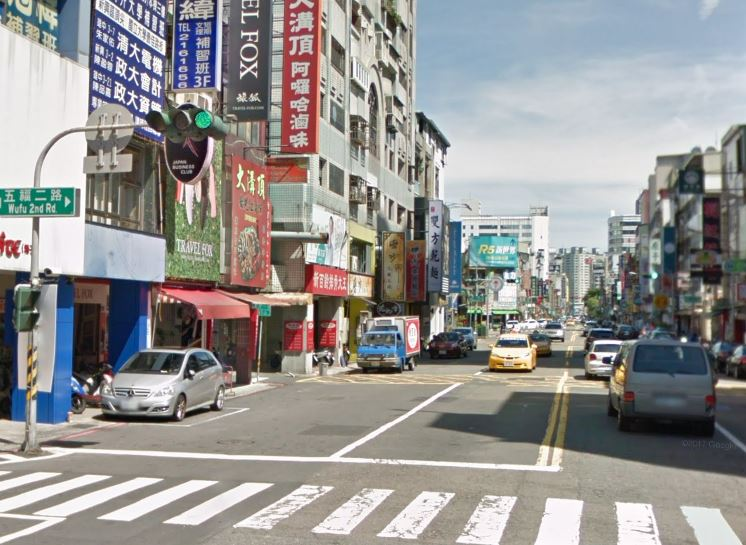Traffic_light_green: (148, 106, 232, 143)
car: (600, 336, 722, 435), (99, 342, 230, 425), (484, 331, 540, 378)
